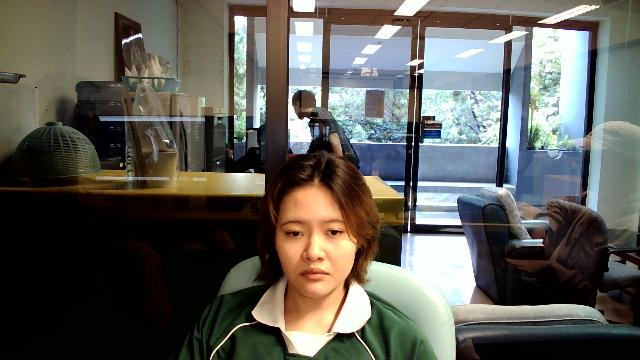fokus: (264, 169, 365, 290)
